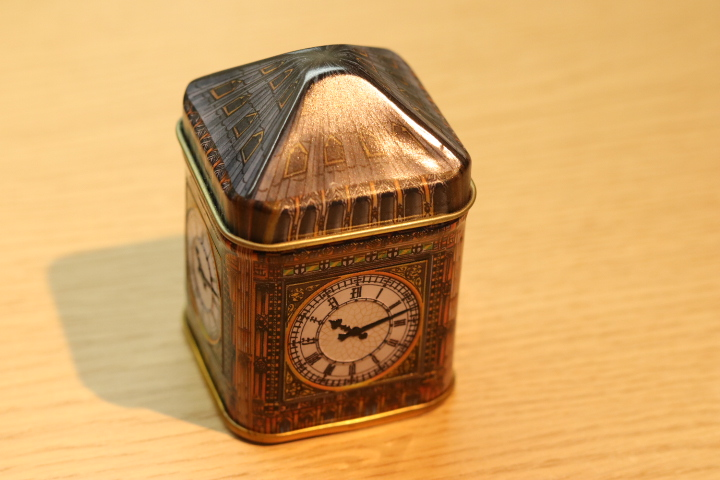Big Ben: (147, 21, 491, 465)
